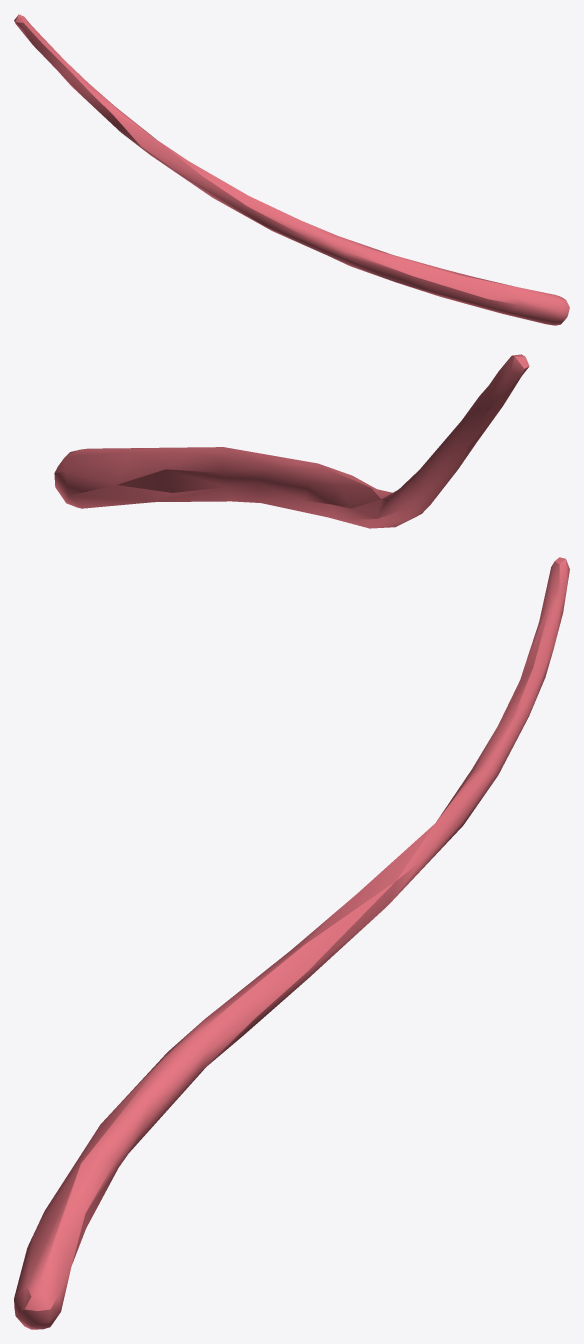
The model's file is fma50660_fj1721.glb.
3 views of the same model, one above another, from view 1: azimuth 30°, elevation 25°; view 2: azimuth 150°, elevation 25°; view 3: azimuth 270°, elevation 25° (orthographic). The views are drawn at different scales.
Visible parts, largest first — view 1: FMA50660_FJ1721; view 2: FMA50660_FJ1721; view 3: FMA50660_FJ1721.
Boxes of the visible parts, <box> form: FMA50660_FJ1721: <box>14,14,569,325</box>; FMA50660_FJ1721: <box>54,354,529,528</box>; FMA50660_FJ1721: <box>14,557,569,1329</box>.
Bounding box in the file's own units: 0.0115 × 0.0079 × 0.00852.
